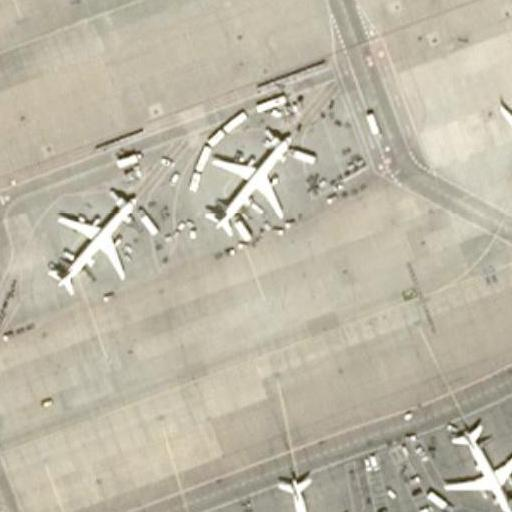Aircraft: (196, 130, 303, 242), (38, 186, 147, 295), (43, 189, 141, 294), (201, 130, 295, 239), (438, 418, 512, 512), (439, 419, 512, 512), (261, 468, 353, 512), (255, 472, 350, 512), (489, 72, 512, 185), (494, 75, 512, 182)
